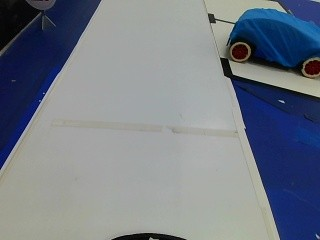car: (218, 6, 318, 77)
